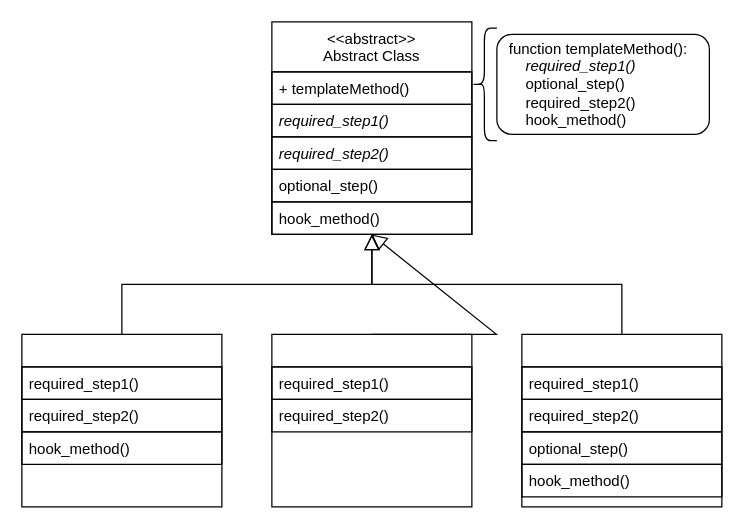
This 744x529 diagram has some shape labels left out. The box of each missing label's shape, as (x1, y1, x2, y2) in pixels:
Implementation 1: (21, 333, 222, 507)
Implementation 2: (271, 333, 472, 507)
Implementation 3: (521, 333, 722, 507)
